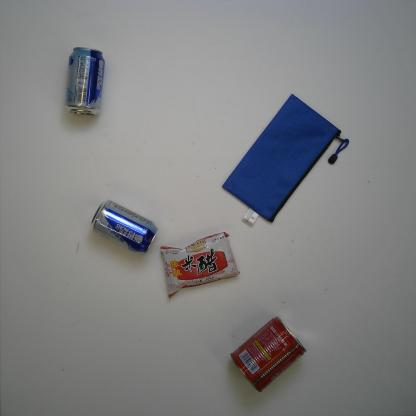Alcohol: (90, 200, 159, 254), (63, 47, 106, 116)
Canned Food: (230, 316, 307, 393)
Seasoner: (160, 232, 240, 299)
Stationery: (222, 94, 349, 225)
